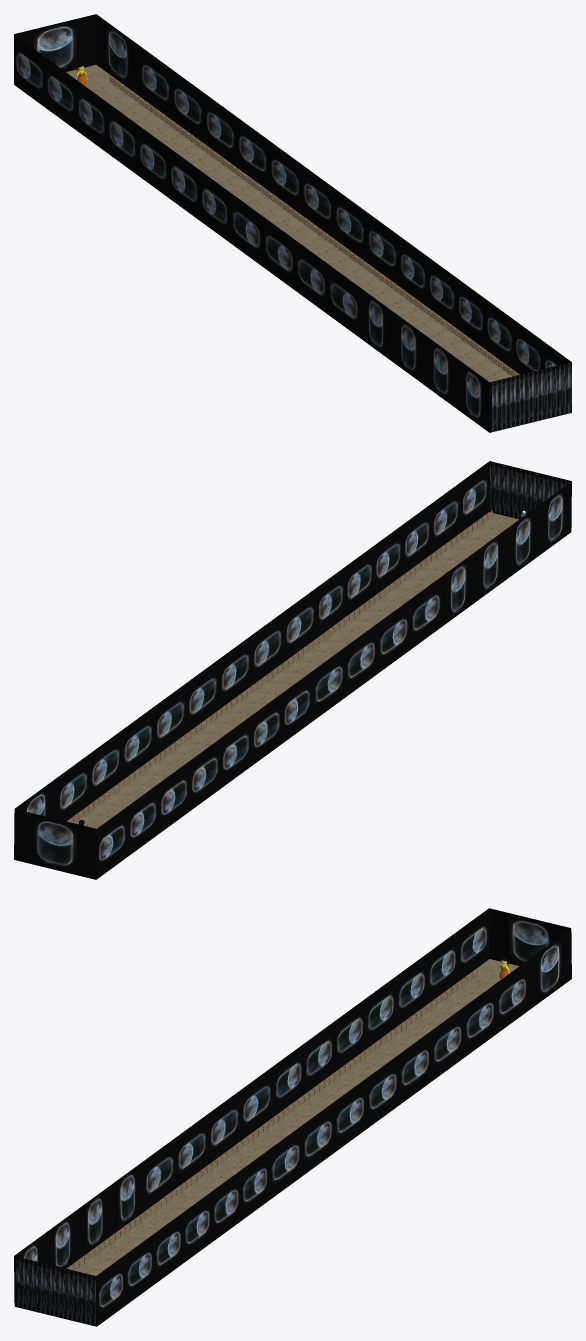
The model's file is WorldSquidGames.glb.
3 views of the same model, one above another, from view 1: azimuth 30°, elevation 25°; view 2: azimuth 150°, elevation 25°; view 3: azimuth 330°, elevation 25° (orthographic).
Visible parts, largest first — view 1: Walls, Floor, WoodenFence; view 2: Walls, Floor, WoodenFence; view 3: Walls, Floor, WoodenFence.
Boxes of the visible parts, x1,y1,x2,y2 form: Walls: (14,14,571,432); Floor: (66,64,519,382); WoodenFence: (109,75,519,376); Walls: (14,461,571,879); Floor: (67,512,519,828); WoodenFence: (67,510,492,823); Walls: (14,908,571,1326); Floor: (66,959,519,1275); WoodenFence: (68,969,477,1270).
Bounding box in the file's own units: 10.03 × 5.91 × 100.
Materials: 19 (9 with a texture image).
